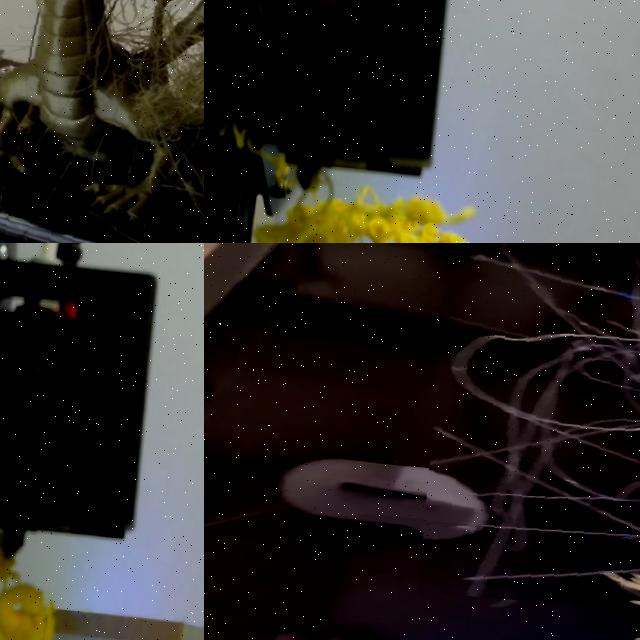spaghetti: (417, 243, 640, 625), (0, 0, 204, 243), (257, 188, 471, 243), (0, 582, 49, 640)
